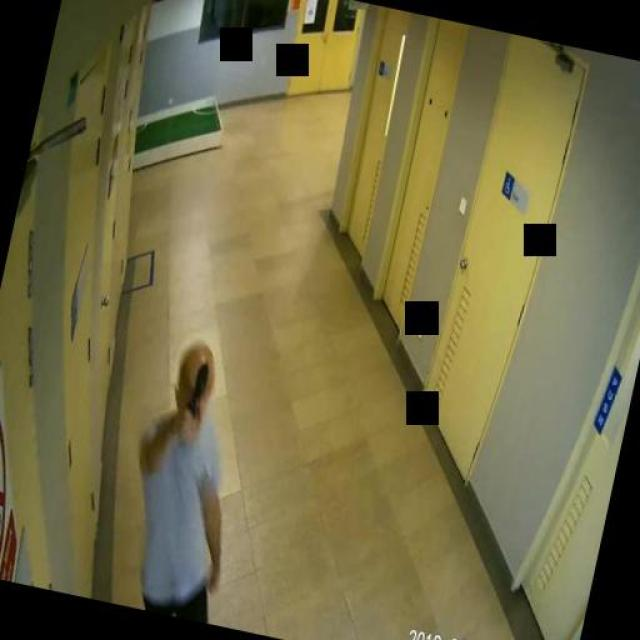gun: (179, 358, 211, 432)
